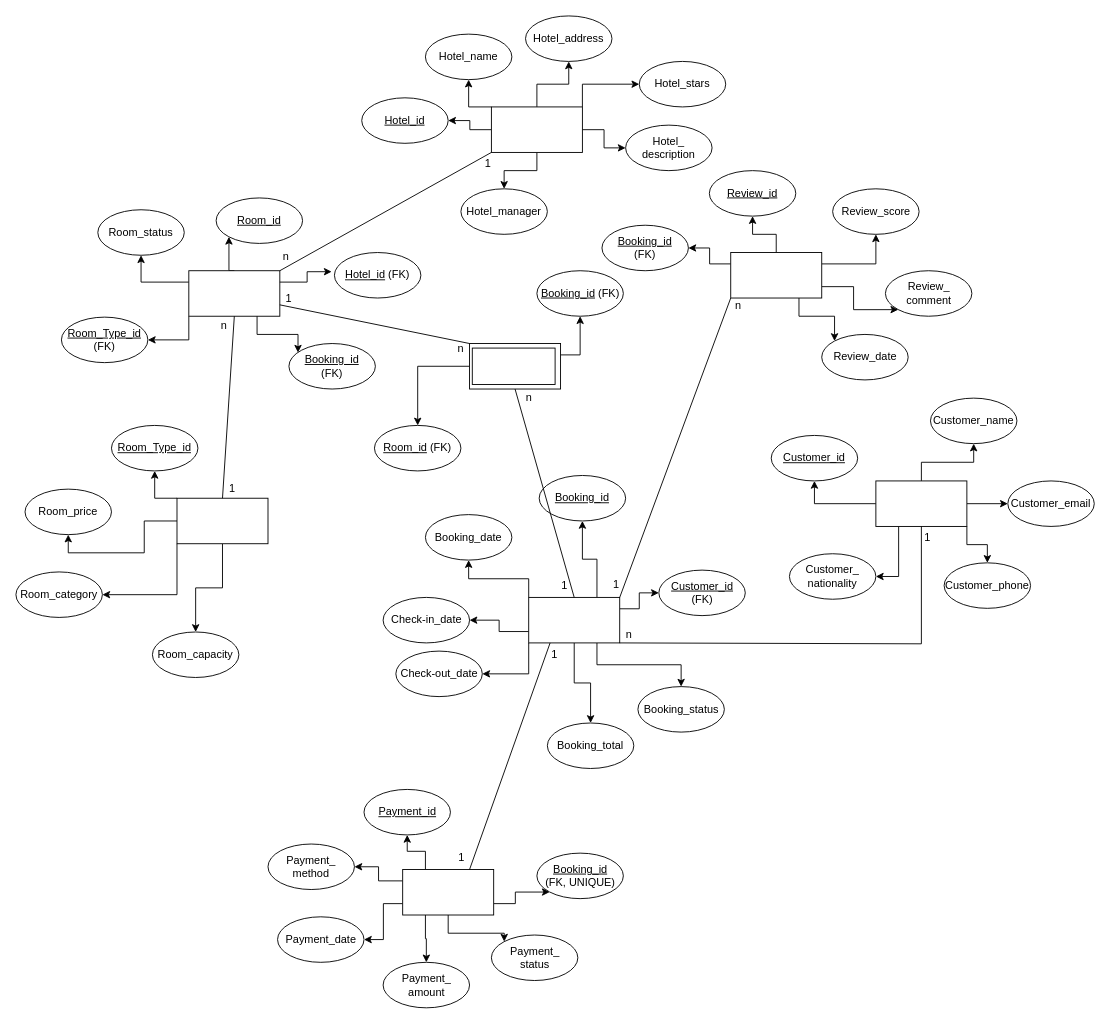
The diagram is 1110 pixels wide and 1024 high, and some of its shapes have lost their labels. The shapes that lost their labels are listed below. From the top down, each one's centre as x and y in pixels, then its label:
[536,129]: Hotel
[234,293]: Room
[776,275]: Review
[513,365]: Room_Booking
[222,520]: Room_Type
[921,503]: Customer
[574,620]: Booking
[448,892]: Payment
